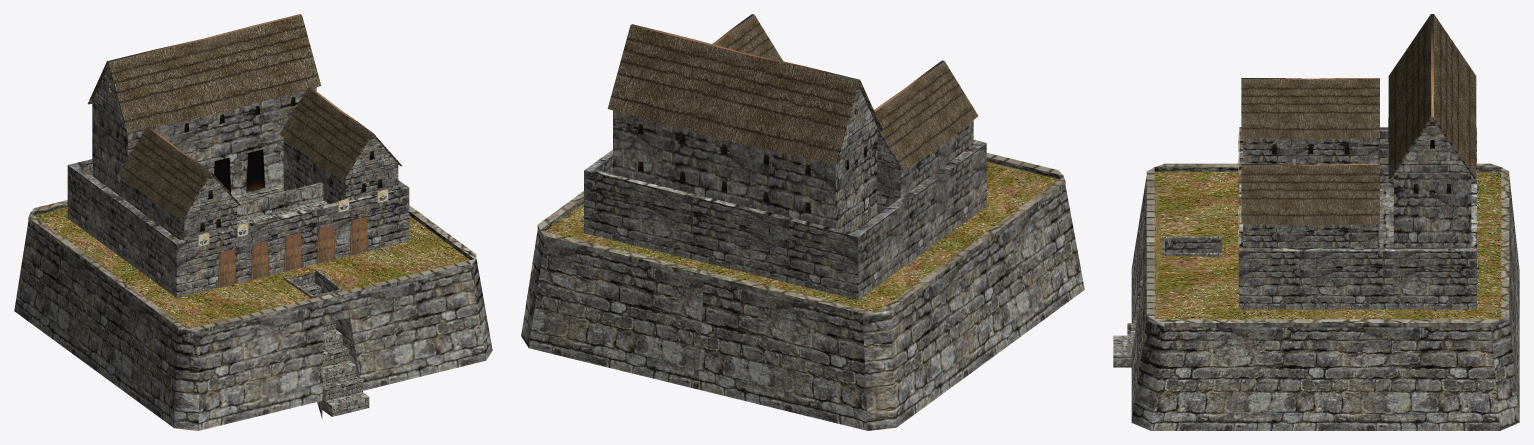
File: inca_fortress.dae
The picture shows the model from 3 angles, left to right: view 1: azimuth 30°, elevation 25°; view 2: azimuth 150°, elevation 25°; view 3: azimuth 270°, elevation 25°; orthographic projection. The views are drawn at different scales.
Parts seen in each view (by area): view 1: fotress; view 2: fotress; view 3: fotress.
Boxes of the visible parts, bbox=[...] form: fotress: bbox=[14, 14, 492, 430]; fotress: bbox=[521, 14, 1084, 430]; fotress: bbox=[1113, 14, 1519, 430].
Bounding box in the file's own units: 32.72 × 33.07 × 27.11.
